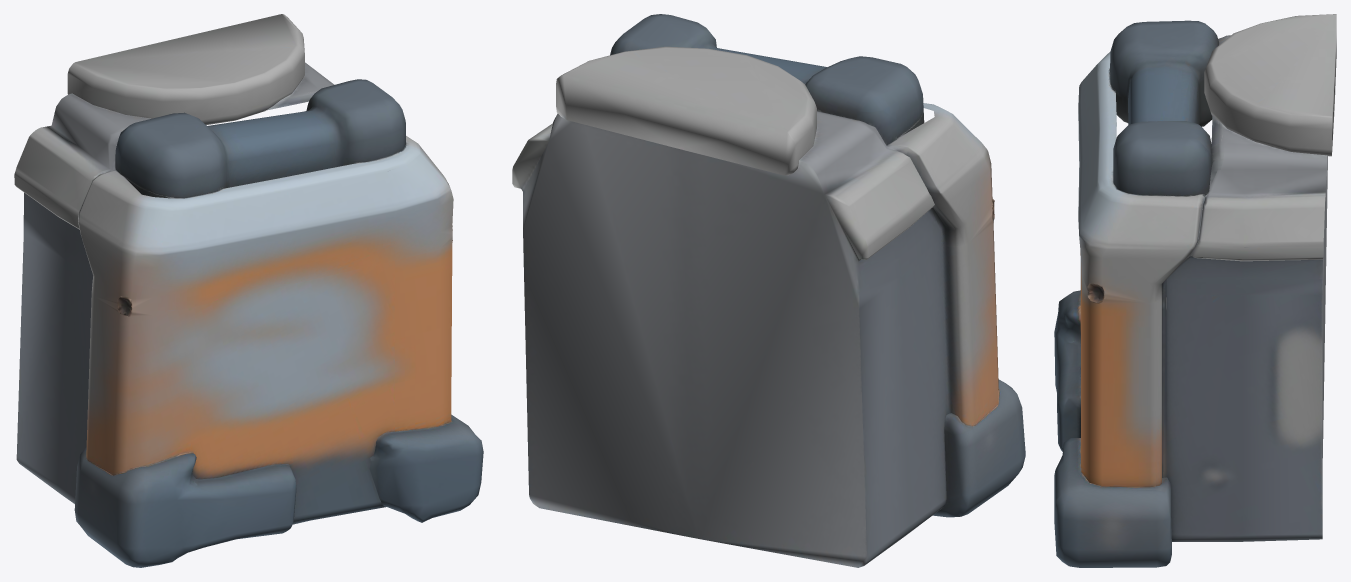
The model's file is camp-energy.glb.
3 views of the same model, side by side, from view 1: azimuth 30°, elevation 25°; view 2: azimuth 150°, elevation 25°; view 3: azimuth 270°, elevation 25° (orthographic). The views are drawn at different scales.
Visible parts, largest first — view 1: tripo_node_9b5e5923-b8e6-4e2c-94c8-31f625351c0a; view 2: tripo_node_9b5e5923-b8e6-4e2c-94c8-31f625351c0a; view 3: tripo_node_9b5e5923-b8e6-4e2c-94c8-31f625351c0a.
Boxes of the visible parts, x1,y1,x2,y2 form: tripo_node_9b5e5923-b8e6-4e2c-94c8-31f625351c0a: (14, 14, 483, 567); tripo_node_9b5e5923-b8e6-4e2c-94c8-31f625351c0a: (512, 14, 1025, 567); tripo_node_9b5e5923-b8e6-4e2c-94c8-31f625351c0a: (1054, 14, 1336, 567).
Size of the model in its own units: 0.9082 by 0.998 by 0.5996.
Materials: 1 (1 with a texture image).
